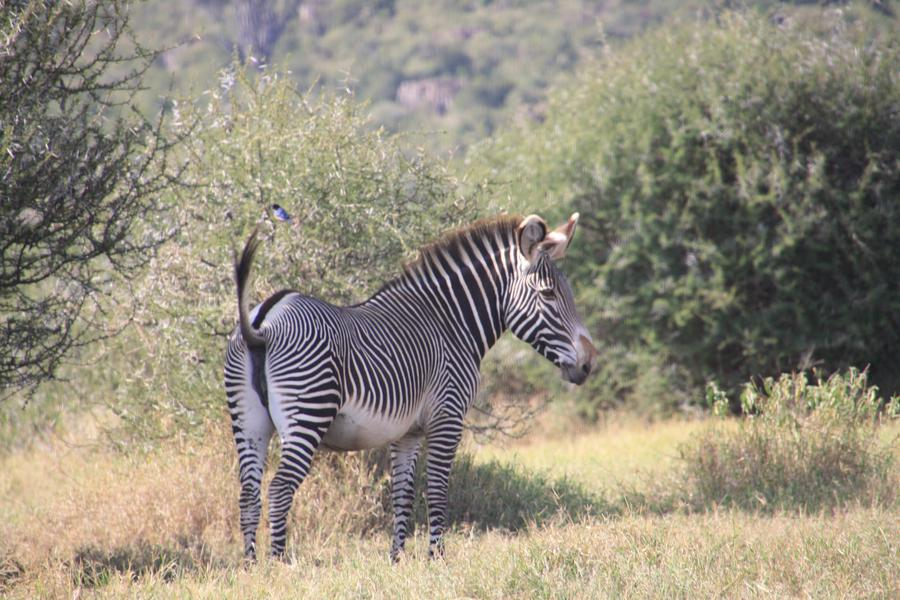zebra_grevys: (254, 286, 466, 423)
